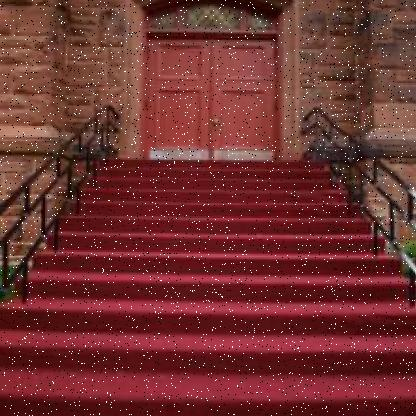stair_up: (22, 272, 349, 416)
